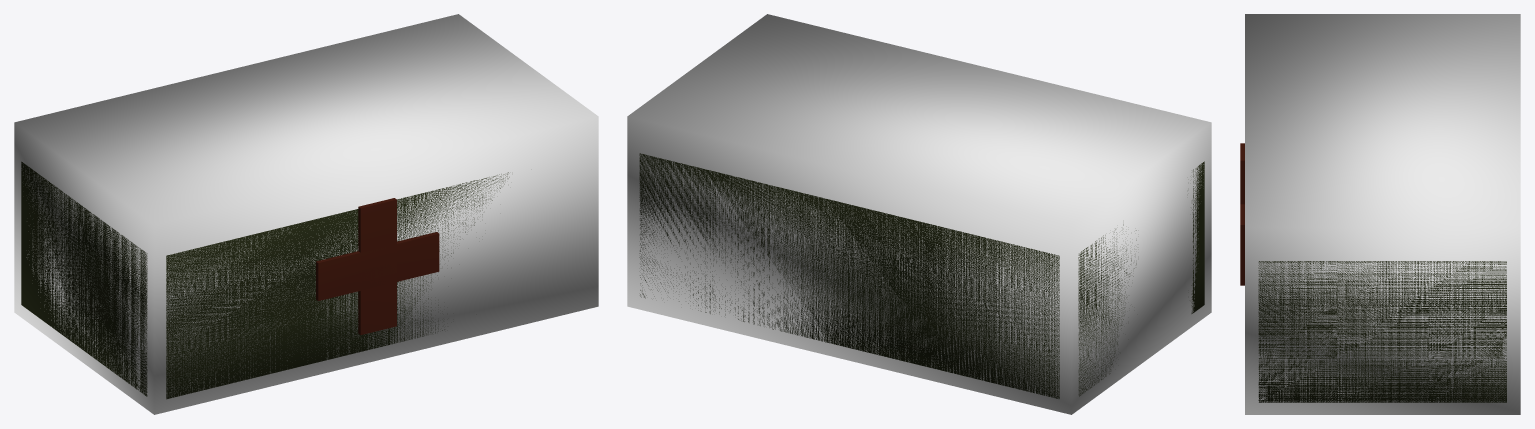
The model's file is botiquin.glb.
3 views of the same model, side by side, from view 1: azimuth 30°, elevation 25°; view 2: azimuth 150°, elevation 25°; view 3: azimuth 270°, elevation 25° (orthographic).
Parts seen in each view (by area): view 1: botiquin-colcaja, botiquin; view 2: botiquin-colcaja, botiquin; view 3: botiquin-colcaja, botiquin.
Part boxes in pixels (x1,y1,x2,y2): botiquin-colcaja: (14, 14, 598, 414); botiquin: (21, 161, 509, 399); botiquin-colcaja: (627, 14, 1211, 414); botiquin: (639, 153, 1204, 398); botiquin-colcaja: (1245, 14, 1520, 414); botiquin: (1240, 143, 1506, 402).
Bounding box in the file's own units: 0.22 × 0.09 × 0.122.
